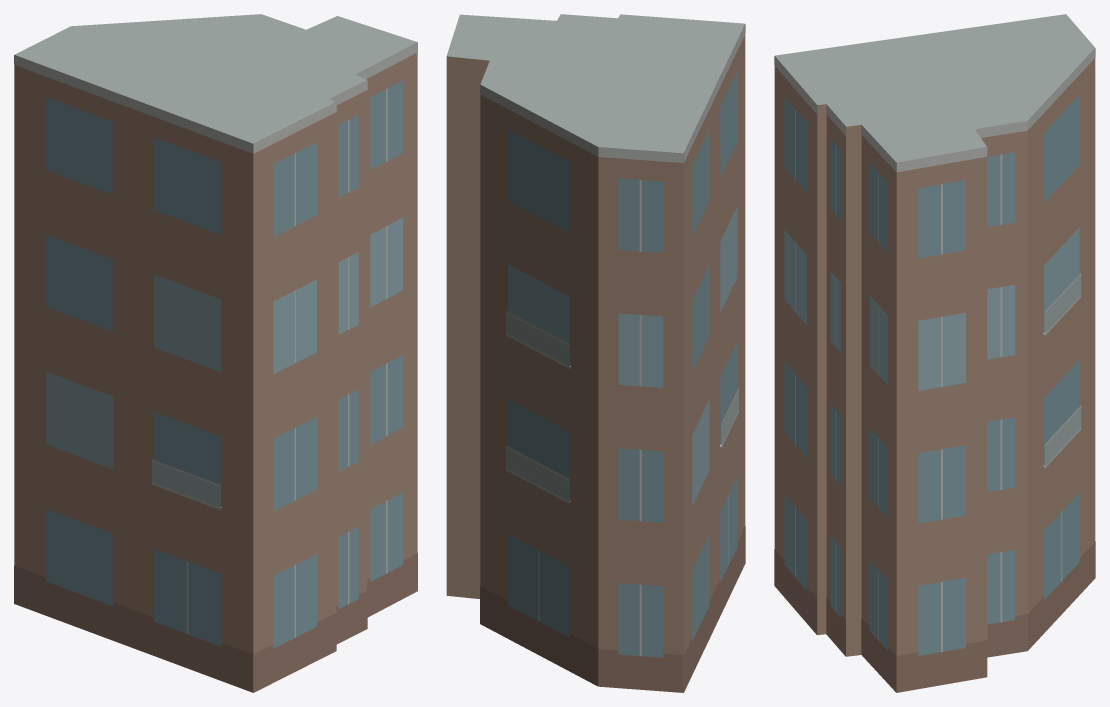
The model's file is survey-upis-32495930.glb.
3 views of the same model, side by side, from view 1: azimuth 30°, elevation 25°; view 2: azimuth 150°, elevation 25°; view 3: azimuth 270°, elevation 25° (orthographic). The views are drawn at different scales.
Parts seen in each view (by area): view 1: survey-upis-32495930.tmp; view 2: survey-upis-32495930.tmp; view 3: survey-upis-32495930.tmp.
Part boxes in pixels (x1,y1,x2,y2): survey-upis-32495930.tmp: (14,14,417,692); survey-upis-32495930.tmp: (446,14,745,692); survey-upis-32495930.tmp: (774,14,1095,692).
Size of the model in its own units: 8.07 by 13.4 by 7.36.
